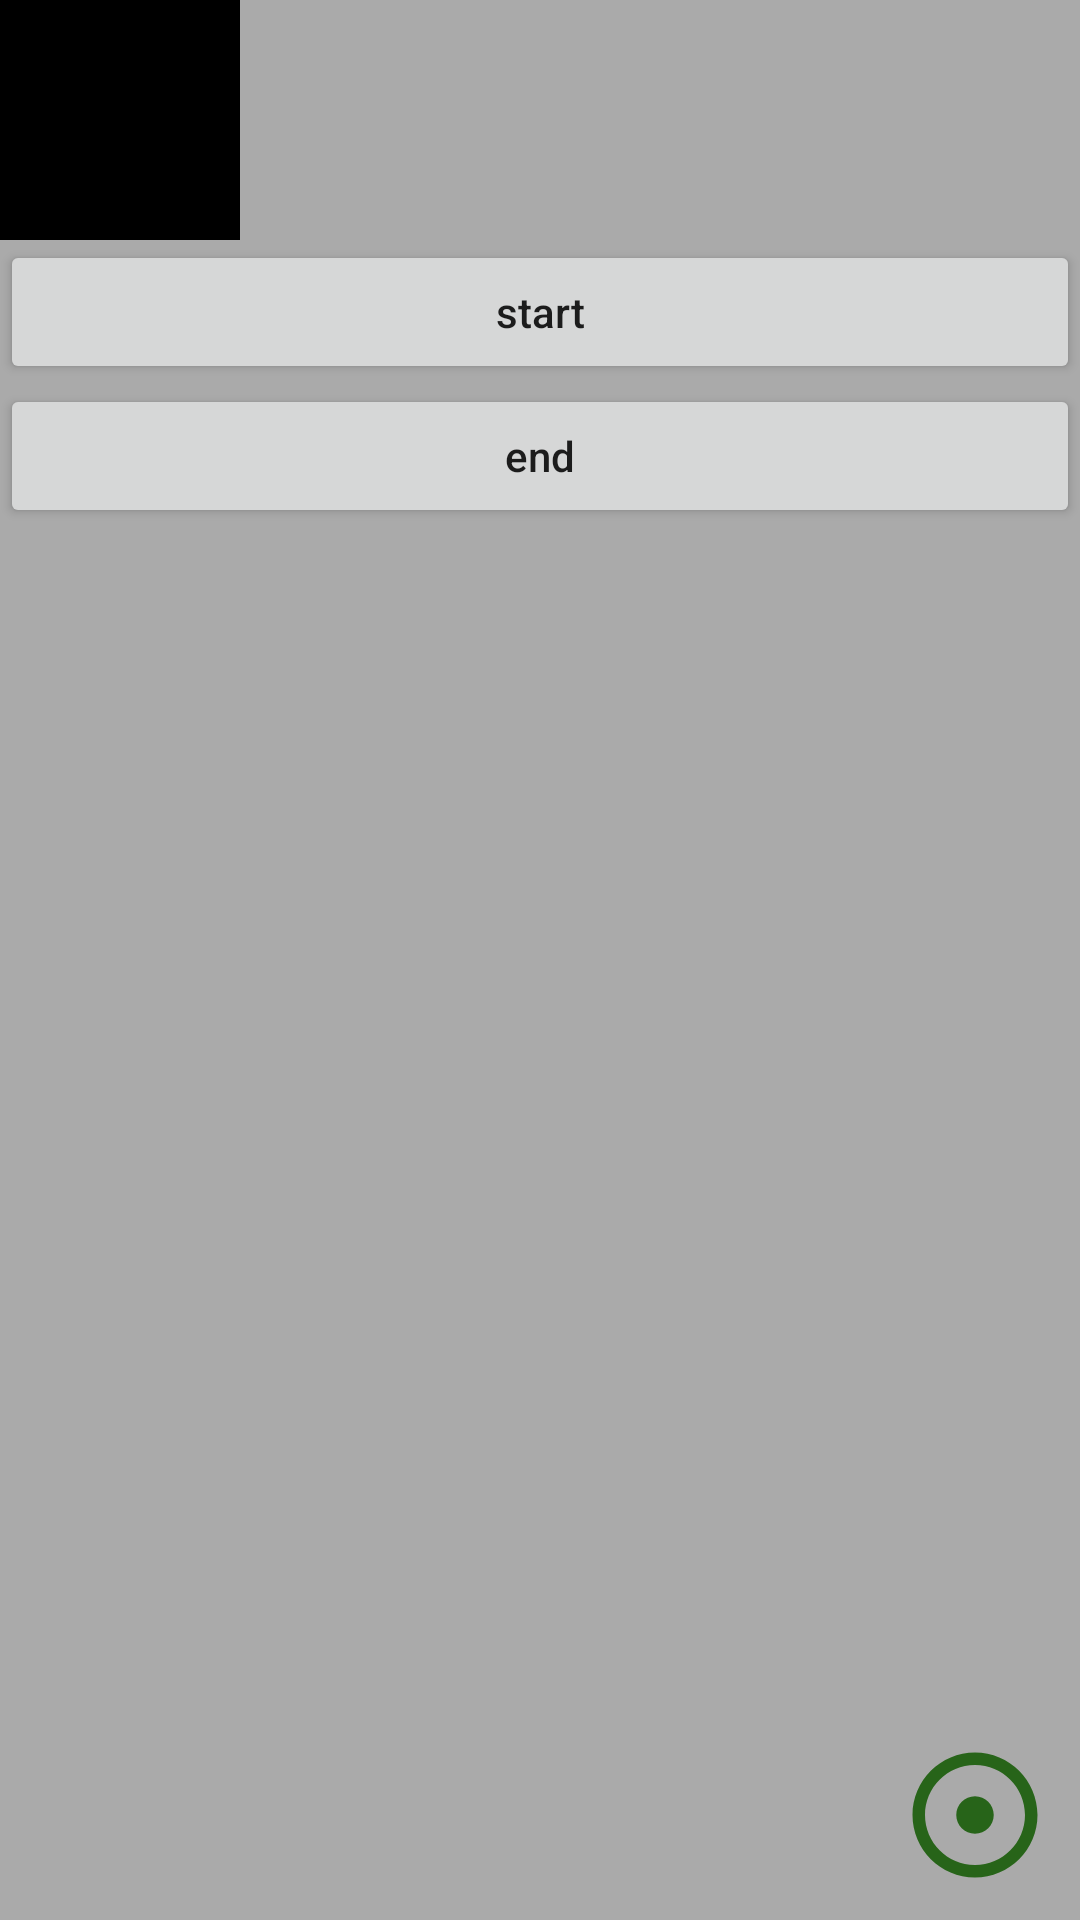

Icon bounding boxes for this 1080x1920 phone screenshot, format [x1,y1,x2,y2]:
adjust: [912,1752,1038,1878]
